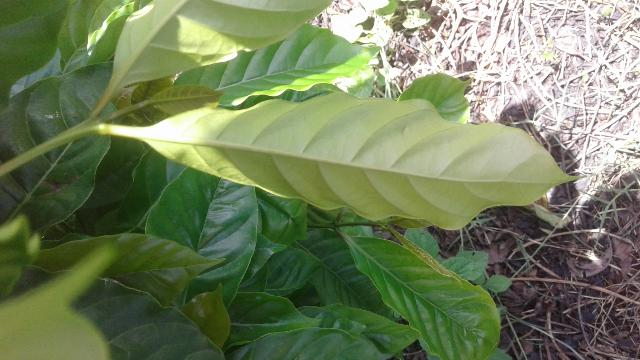healthy: (130, 90, 588, 232)
